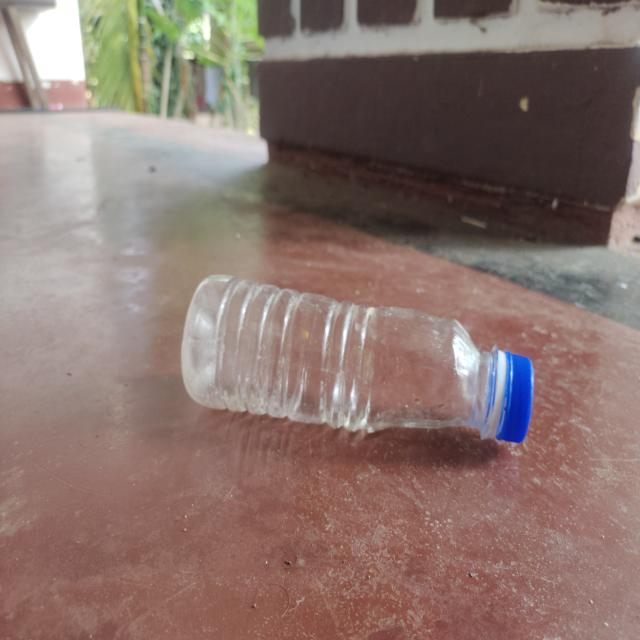plastic: (180, 273, 533, 452)
